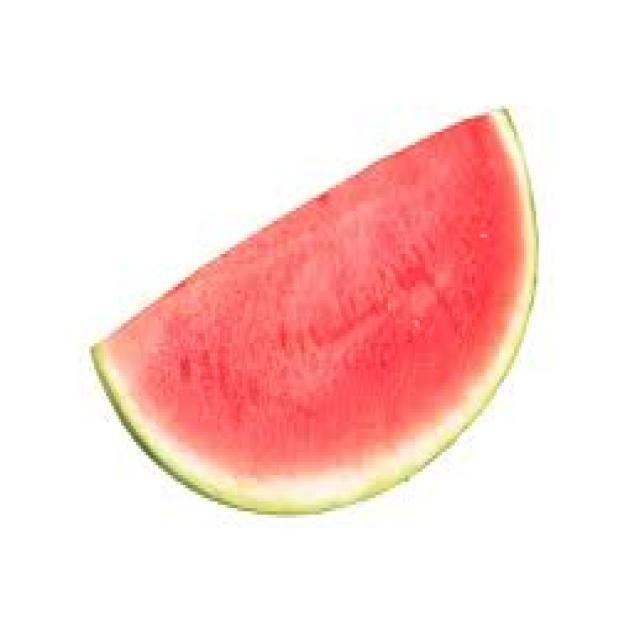Watermelon: (54, 82, 576, 542)
